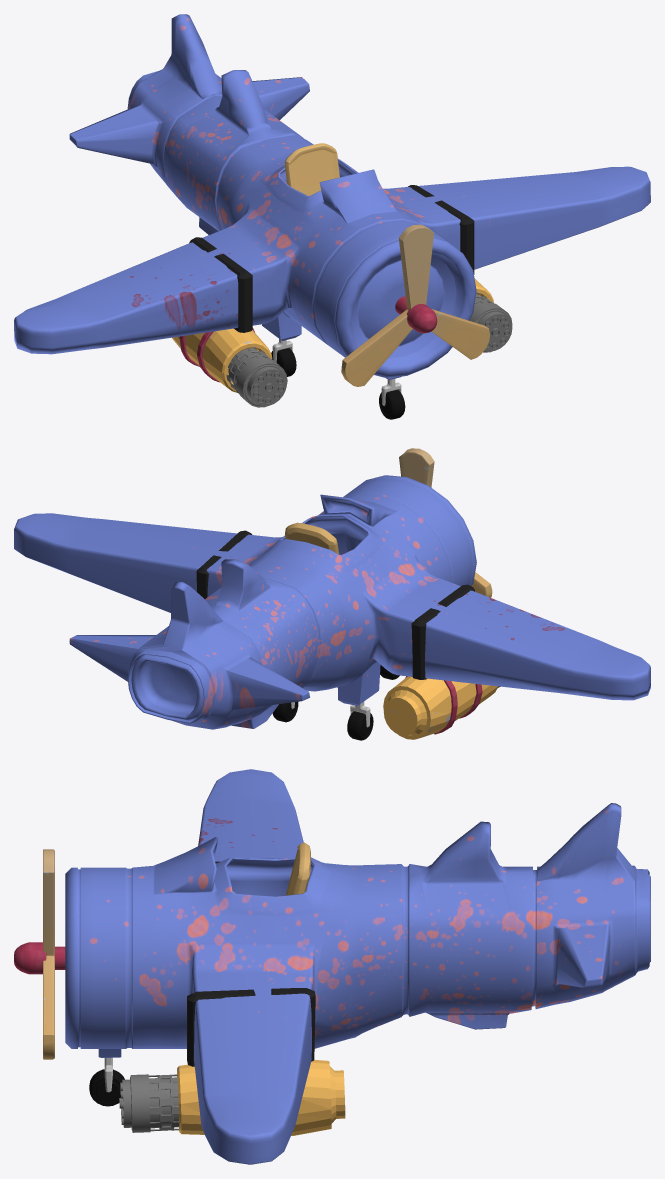
File: PlanecatMaterialtexture.fbx
3 renders of one model, top to bottom at view 1: azimuth 30°, elevation 25°; view 2: azimuth 150°, elevation 25°; view 3: azimuth 270°, elevation 25°, orthographic. The views are drawn at different scales.
Visible parts, largest first — view 1: Plane_body, Propeller, Machinegun1, Maxhinegunbody, Chair, pasted__Machinegun2, MachineGunL, pasted__MountL, PropellerNub, Wheel4; view 2: Plane_body, Maxhinegunbody, Propeller, MachineGunL, Chair, pasted__MountL, Wheel, Strap; view 3: Plane_body, pasted__Maxhinegunbody, pasted__Machinegun2, Propeller, pasted__MountL, PropellerNub, Wheel4, Chair.
Boxes of the visible parts, x1=… form: Plane_body: x1=14, y1=14, x2=650, y2=379; Propeller: x1=341, y1=224, x2=489, y2=386; Machinegun1: x1=226, y1=348, x2=287, y2=407; Maxhinegunbody: x1=172, y1=328, x2=272, y2=392; Chair: x1=285, y1=143, x2=339, y2=195; pasted__Machinegun2: x1=469, y1=293, x2=512, y2=352; MachineGunL: x1=189, y1=237, x2=252, y2=332; pasted__MountL: x1=408, y1=185, x2=474, y2=274; PropellerNub: x1=395, y1=296, x2=437, y2=333; Wheel4: x1=379, y1=390, x2=405, y2=419; Plane_body: x1=14, y1=475, x2=650, y2=729; Maxhinegunbody: x1=383, y1=676, x2=498, y2=739; Propeller: x1=399, y1=448, x2=492, y2=597; MachineGunL: x1=411, y1=584, x2=474, y2=679; Chair: x1=285, y1=522, x2=338, y2=554; pasted__MountL: x1=196, y1=530, x2=252, y2=599; Wheel: x1=347, y1=711, x2=373, y2=740; Strap: x1=405, y1=676, x2=482, y2=734; Plane_body: x1=65, y1=769, x2=650, y2=1164; pasted__Maxhinegunbody: x1=177, y1=1059, x2=345, y2=1135; pasted__Machinegun2: x1=119, y1=1074, x2=179, y2=1132; Propeller: x1=43, y1=849, x2=54, y2=1059; pasted__MountL: x1=187, y1=988, x2=315, y2=1066; PropellerNub: x1=14, y1=942, x2=65, y2=974; Wheel4: x1=89, y1=1069, x2=124, y2=1106; Chair: x1=285, y1=842, x2=310, y2=895.
Size of the model in its own units: 527 by 199 by 384.
